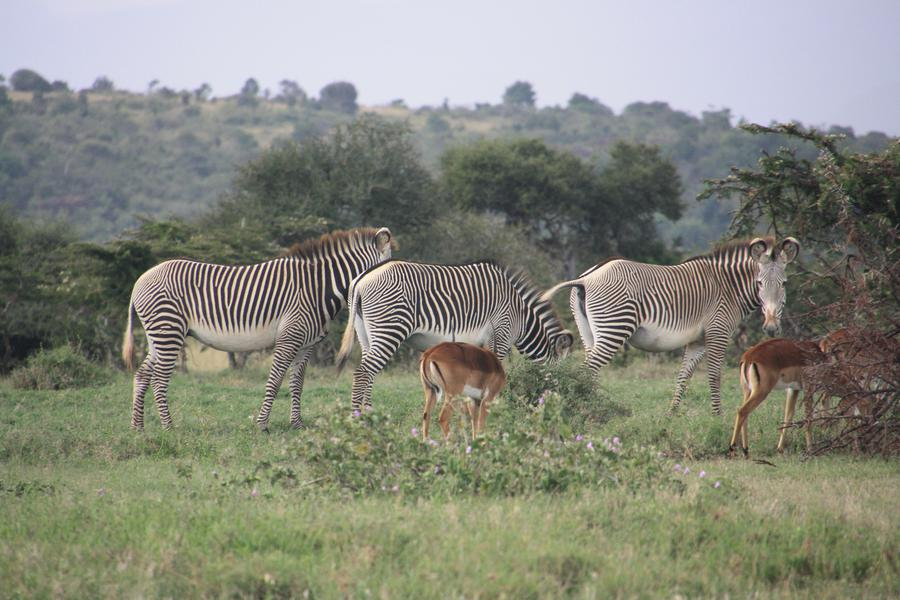zebra_grevys: (126, 243, 315, 347)
